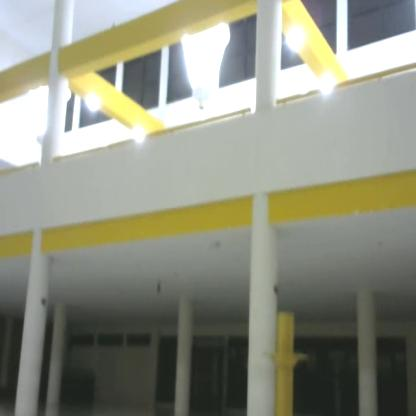pole: (262, 309, 311, 416)
